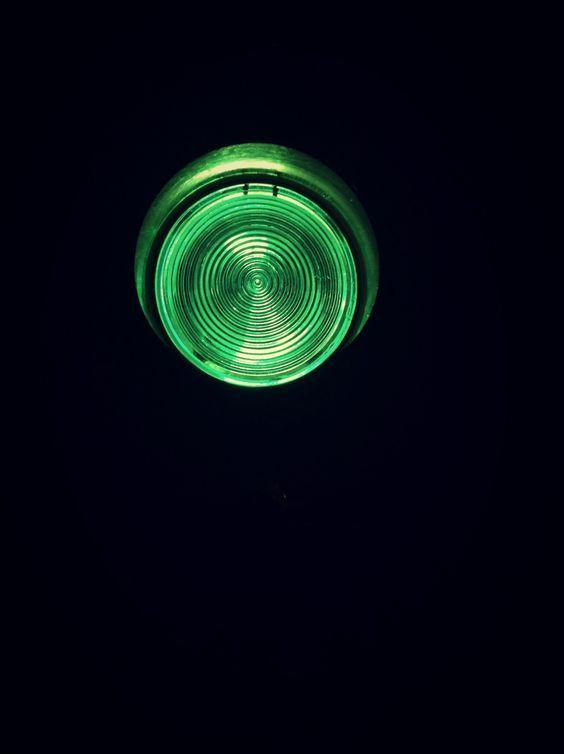green: (86, 84, 440, 448)
